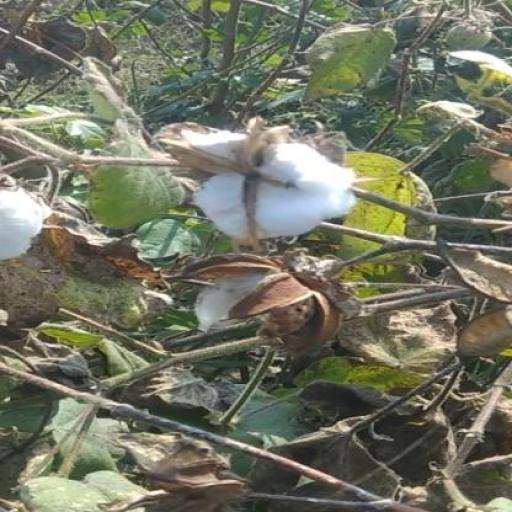cotton_ready: (166, 122, 362, 252)
